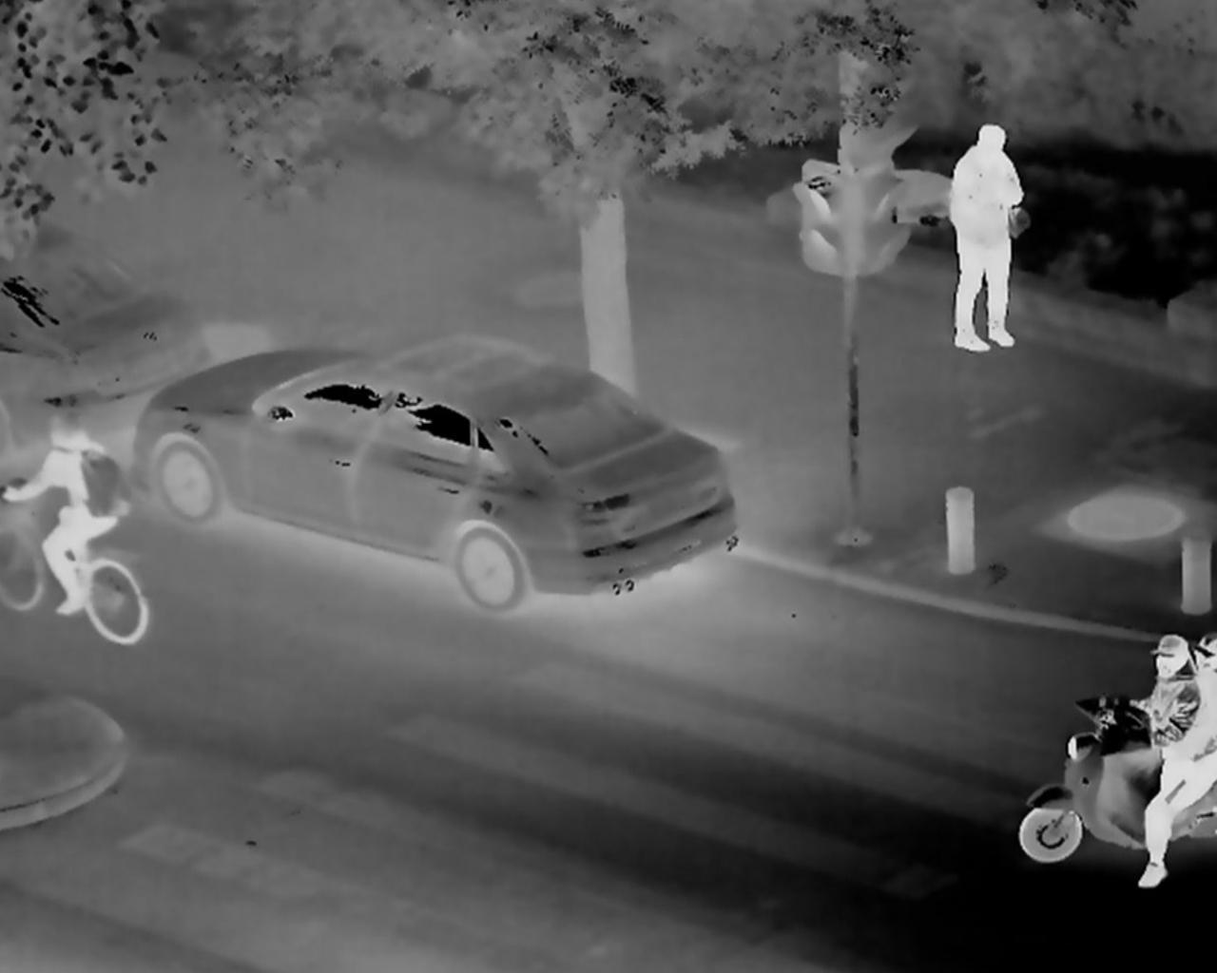person: (6, 412, 135, 624), (929, 124, 1036, 370), (1130, 626, 1217, 893)
